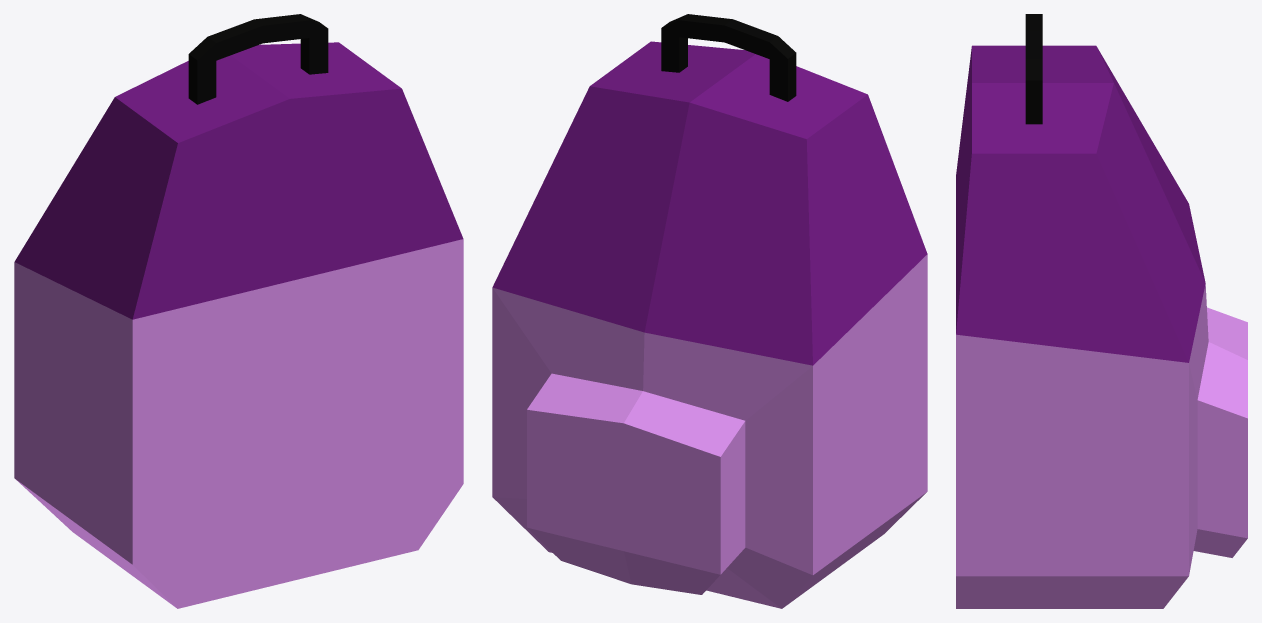
File: backpack_fushia.glb
The picture shows the model from 3 angles, left to right: view 1: azimuth 30°, elevation 25°; view 2: azimuth 150°, elevation 25°; view 3: azimuth 270°, elevation 25°; orthographic projection. The views are drawn at different scales.
Parts seen in each view (by area): view 1: Backpack_fushia; view 2: Backpack_fushia; view 3: Backpack_fushia.
Boxes of the visible parts, box(x1,y1,x2,y2) form: Backpack_fushia: box(14, 14, 463, 608); Backpack_fushia: box(492, 14, 927, 608); Backpack_fushia: box(956, 14, 1247, 608).
Size of the model in its own units: 0.5076 by 0.7739 by 0.3934.
Materials: 1 (1 with a texture image).
